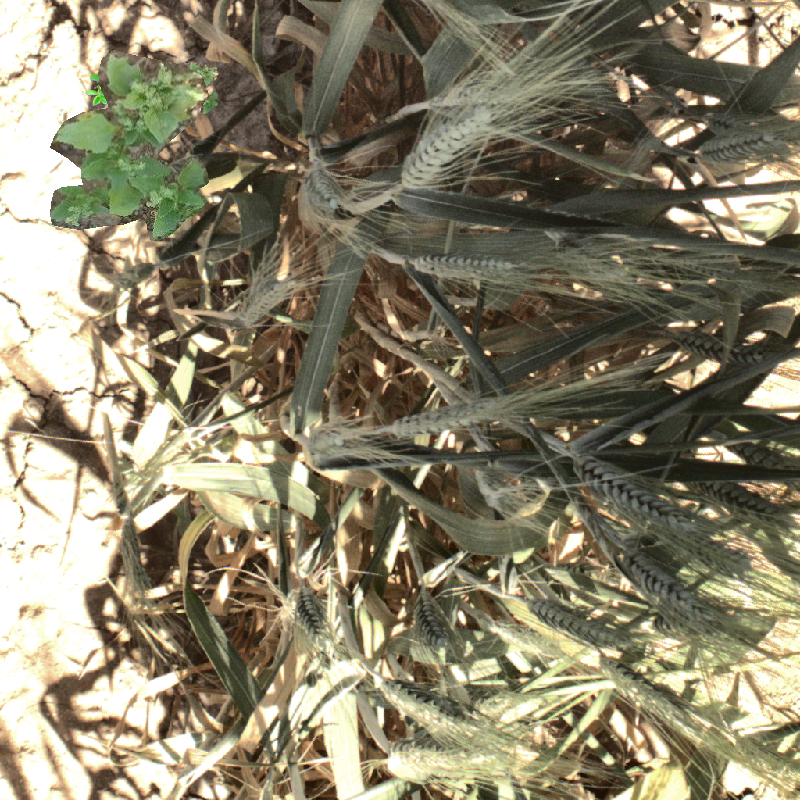spikelet: (574, 453, 752, 571), (371, 670, 521, 763), (394, 96, 500, 193), (593, 654, 694, 732), (381, 391, 524, 443), (688, 476, 800, 542), (520, 591, 632, 650), (624, 548, 712, 621), (690, 116, 797, 167), (649, 250, 773, 292), (406, 250, 523, 289), (718, 744, 800, 799), (231, 266, 296, 332), (382, 738, 479, 781), (671, 331, 780, 365), (288, 587, 339, 655), (299, 161, 344, 215)
weed: (51, 50, 210, 241), (82, 81, 172, 151), (174, 61, 219, 115), (85, 64, 129, 106)
